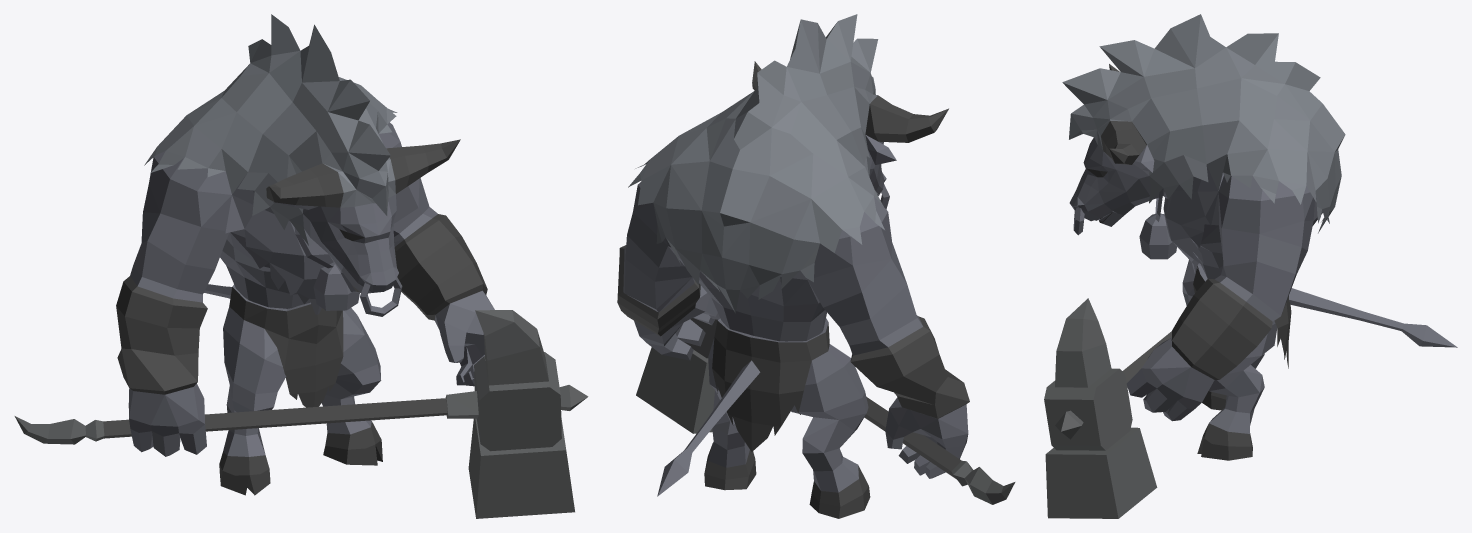
The model's file is Tau_00_acc.FBX.
3 views of the same model, side by side, from view 1: azimuth 30°, elevation 25°; view 2: azimuth 150°, elevation 25°; view 3: azimuth 270°, elevation 25° (orthographic). The views are drawn at different scales.
Parts seen in each view (by area): view 1: Tau_00_acc; view 2: Tau_00_acc; view 3: Tau_00_acc.
Part boxes in pixels (<box>): Tau_00_acc: <box>14,14,588,518</box>; Tau_00_acc: <box>617,14,1015,518</box>; Tau_00_acc: <box>1044,14,1457,518</box>.
Bounding box in the file's own units: 445 × 433 × 379.
